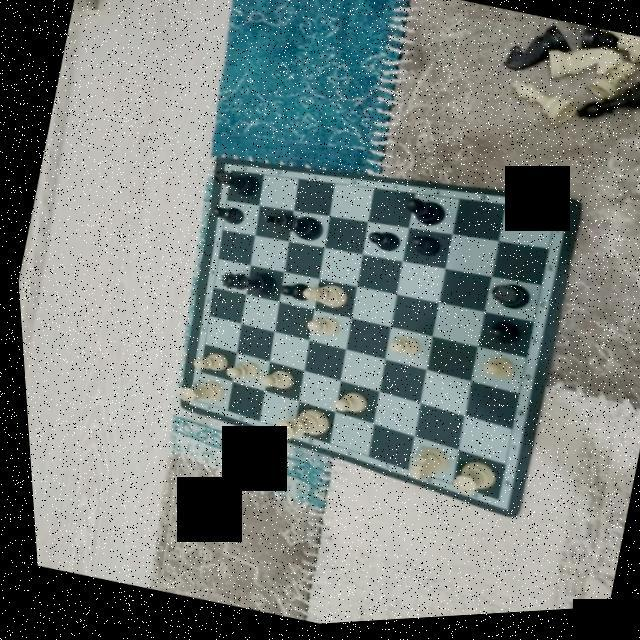chess-table-corners: (480, 493, 502, 512), (542, 208, 562, 225), (180, 393, 200, 409), (220, 165, 236, 179)
